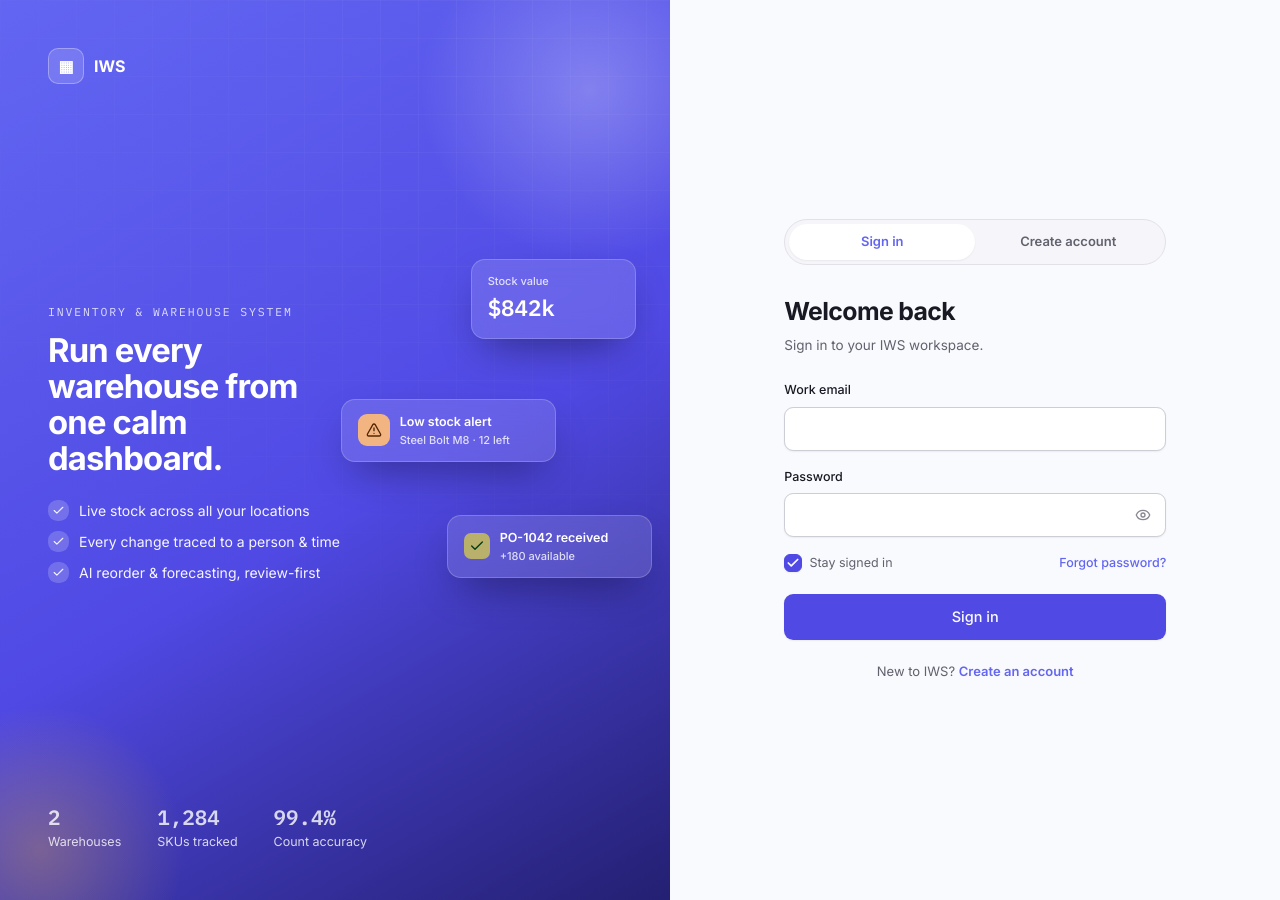
Test case: LoginPage › shows the API message on a real 401 with a body
Type "admin@iws.local" into the field labelled "Work email" at coordinates (975, 429), box x1=784 y1=407 x2=1166 y2=451
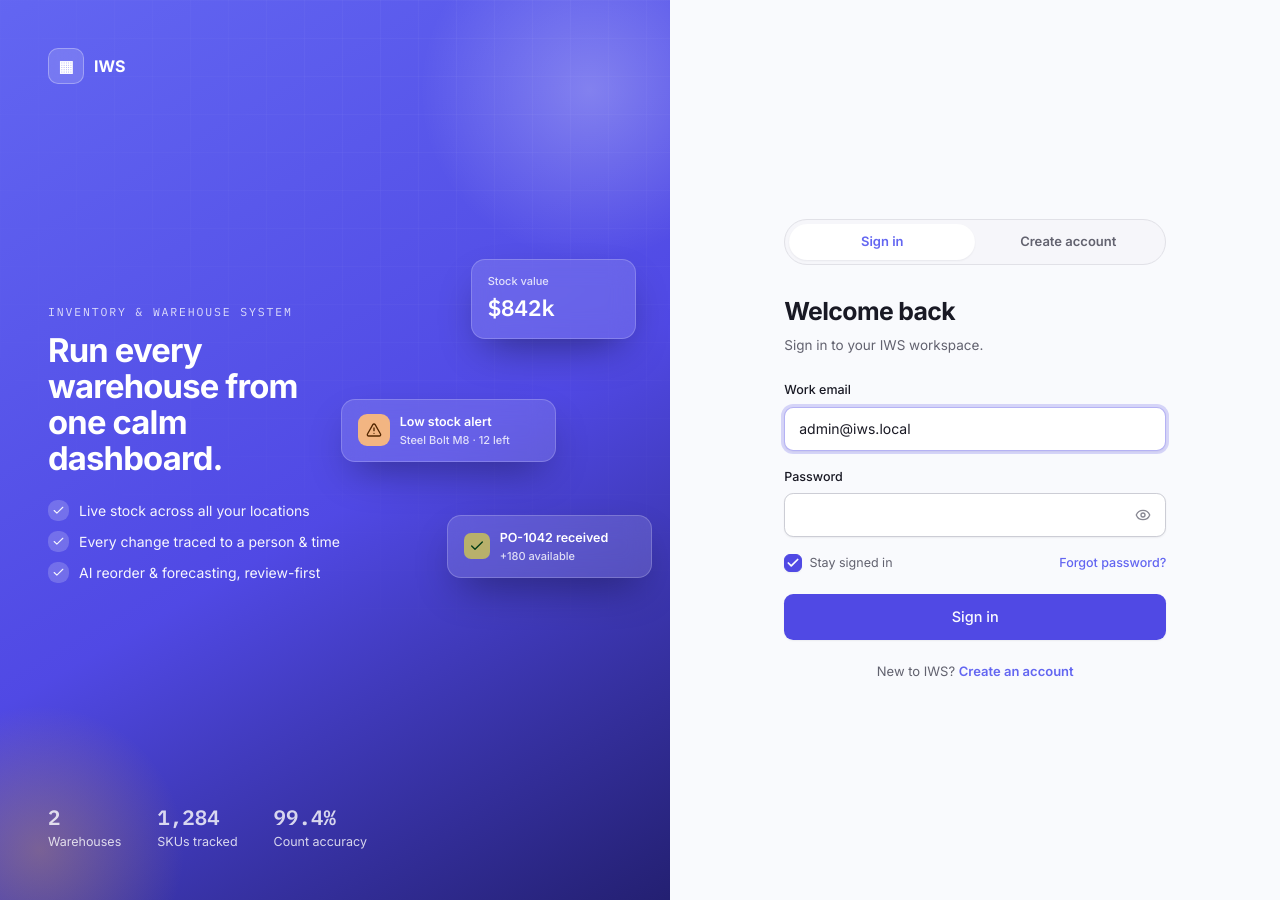
Type "whatever" into the password field labelled "Password" at coordinates (975, 515), box x1=784 y1=493 x2=1166 y2=537
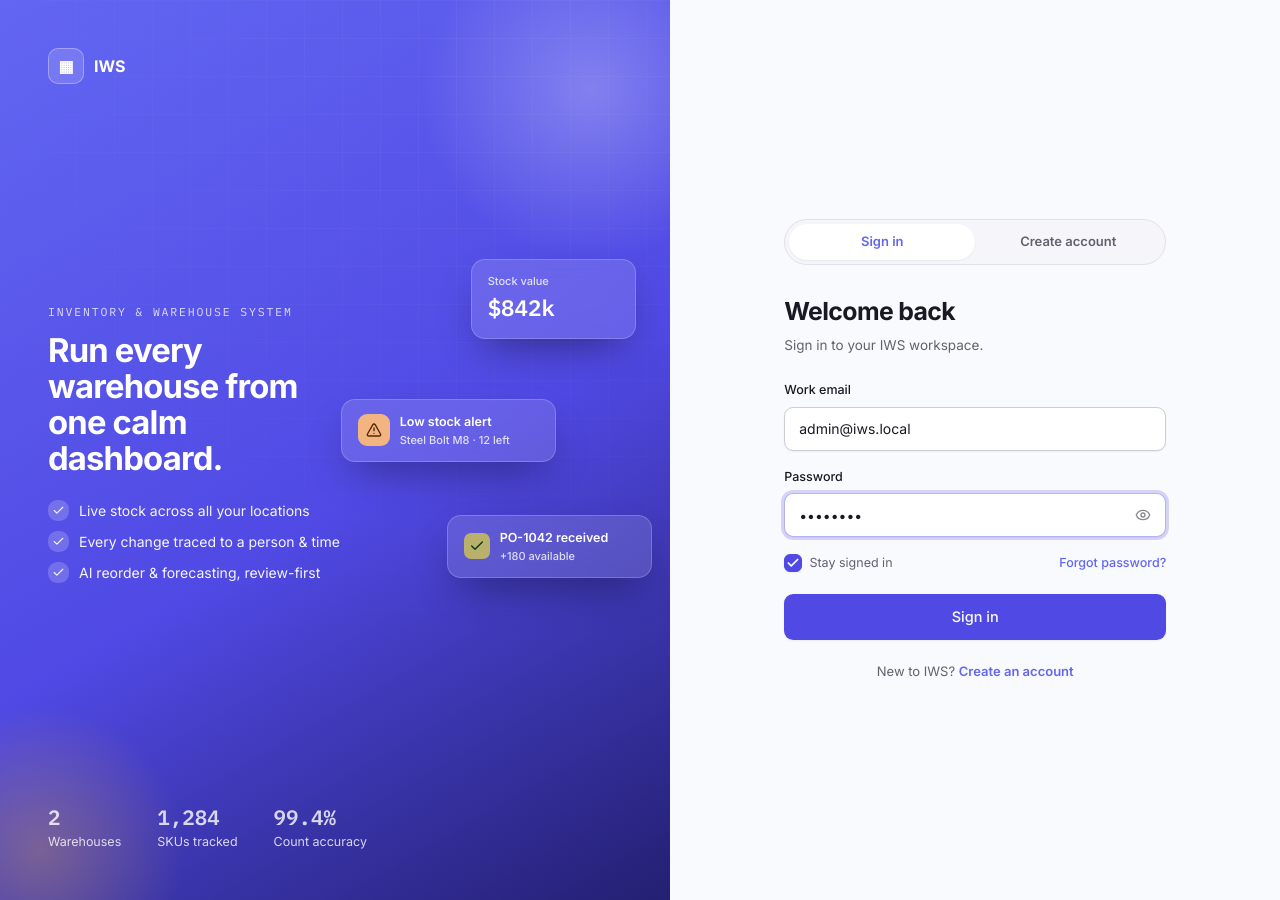
Click the button "Sign in" at coordinates (975, 617), box x1=784 y1=594 x2=1166 y2=640
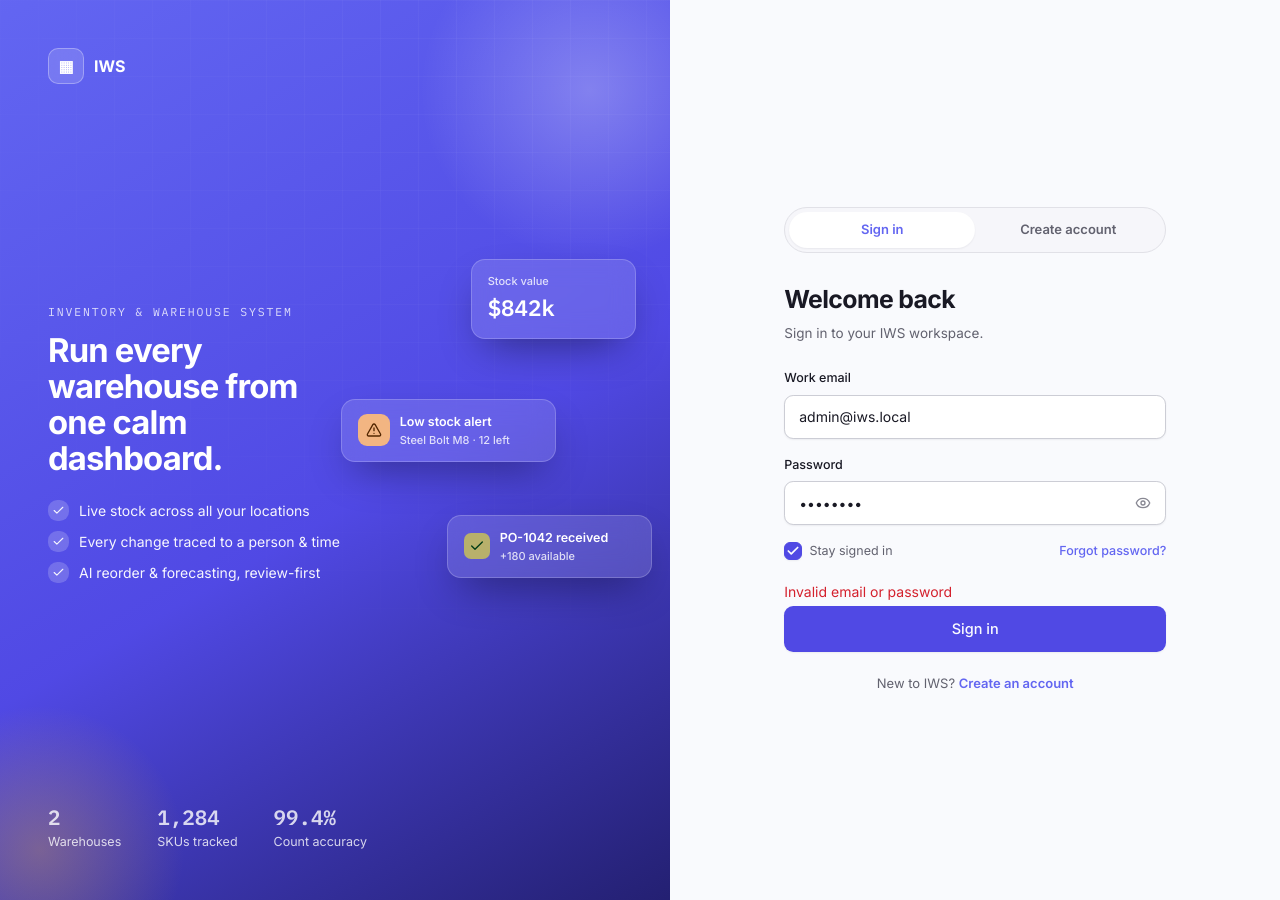
Result: the message reads "Invalid email or password" at x1=784 y1=583 x2=952 y2=600
